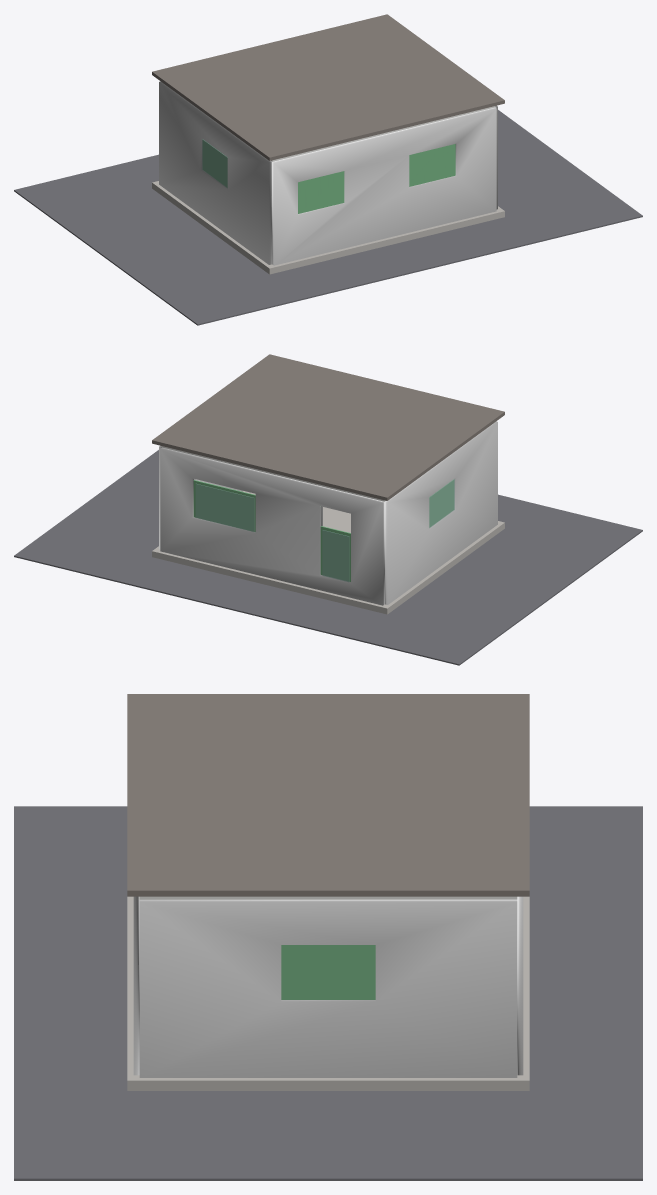
Rendered from store_pharmacy.glb.
The picture shows the model from 3 angles, top to bottom: view 1: azimuth 30°, elevation 25°; view 2: azimuth 150°, elevation 25°; view 3: azimuth 270°, elevation 25°; orthographic projection. The views are drawn at different scales.
Parts seen in each view (by area): view 1: ground, roof, back_wall, left_wall, frame (×3), foundation, glass, ceiling; view 2: ground, roof, front_wall, left_wall, frame (×3), glass (×3), foundation, floor, ceiling; view 3: ground, roof, right_wall, foundation, frame, ceiling, front_wall, back_wall.
Boxes of the visible parts, bbox=[...] form: ground: bbox=[14, 110, 642, 325]; roof: bbox=[152, 14, 504, 160]; back_wall: bbox=[272, 107, 496, 265]; left_wall: bbox=[159, 81, 272, 264]; frame (×3): bbox=[202, 139, 455, 213]; foundation: bbox=[152, 181, 504, 274]; glass: bbox=[202, 139, 227, 188]; ceiling: bbox=[271, 106, 494, 161]; ground: bbox=[14, 450, 642, 665]; roof: bbox=[152, 354, 504, 500]; front_wall: bbox=[160, 447, 384, 605]; left_wall: bbox=[384, 421, 497, 604]; frame (×3): bbox=[193, 479, 454, 581]; glass (×3): bbox=[195, 479, 454, 582]; foundation: bbox=[152, 521, 504, 614]; floor: bbox=[243, 491, 350, 532]; ceiling: bbox=[162, 446, 385, 501]; ground: bbox=[14, 806, 642, 1180]; roof: bbox=[127, 694, 529, 896]; right_wall: bbox=[139, 899, 517, 1077]; foundation: bbox=[127, 896, 529, 1090]; frame: bbox=[281, 945, 375, 999]; ceiling: bbox=[139, 896, 517, 899]; front_wall: bbox=[517, 896, 523, 1075]; back_wall: bbox=[133, 896, 139, 1075].
Size of the model in its own units: 14 by 3.55 by 10.
